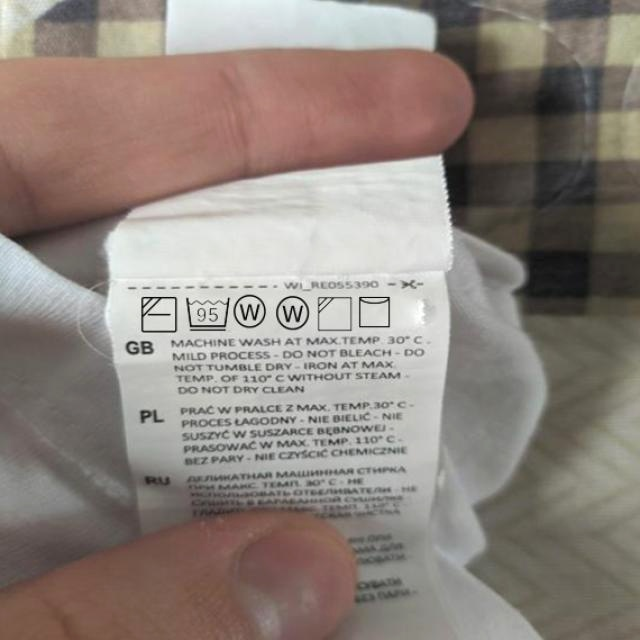95C: (184, 294, 232, 332)
dry_flat_in_shade: (139, 293, 178, 335)
line_dry: (356, 292, 395, 330)
shade_dry: (316, 294, 354, 333)
wet_clean: (275, 294, 311, 333), (234, 290, 269, 330)
